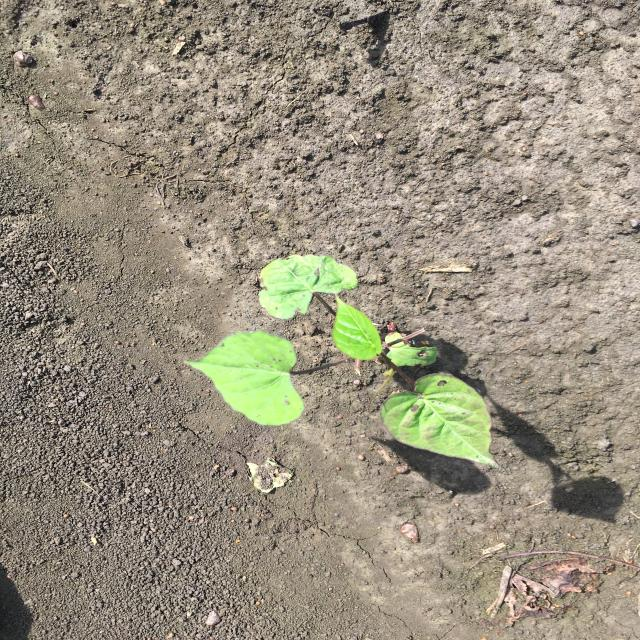MorningGlory: (179, 253, 506, 473)
